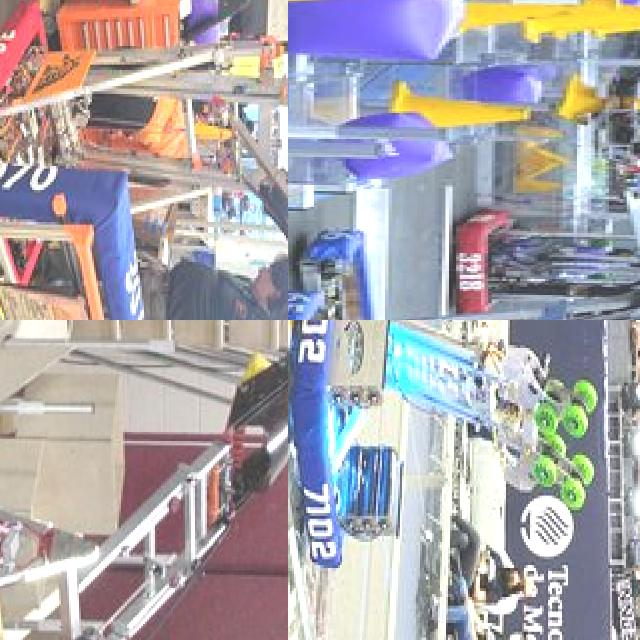FRC-Robots: (288, 320, 640, 631), (0, 0, 288, 320), (0, 320, 288, 640), (288, 134, 640, 320), (447, 212, 640, 320)
